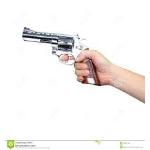Pistol: (22, 26, 100, 86)
